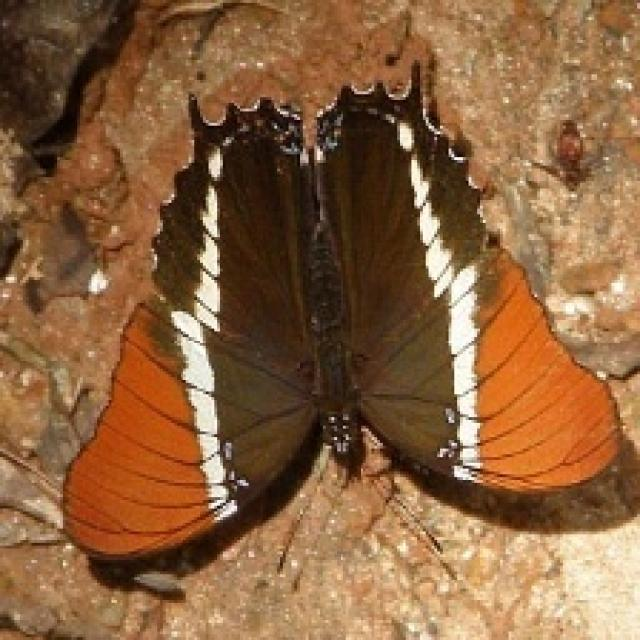butterfly: (57, 54, 626, 586)
